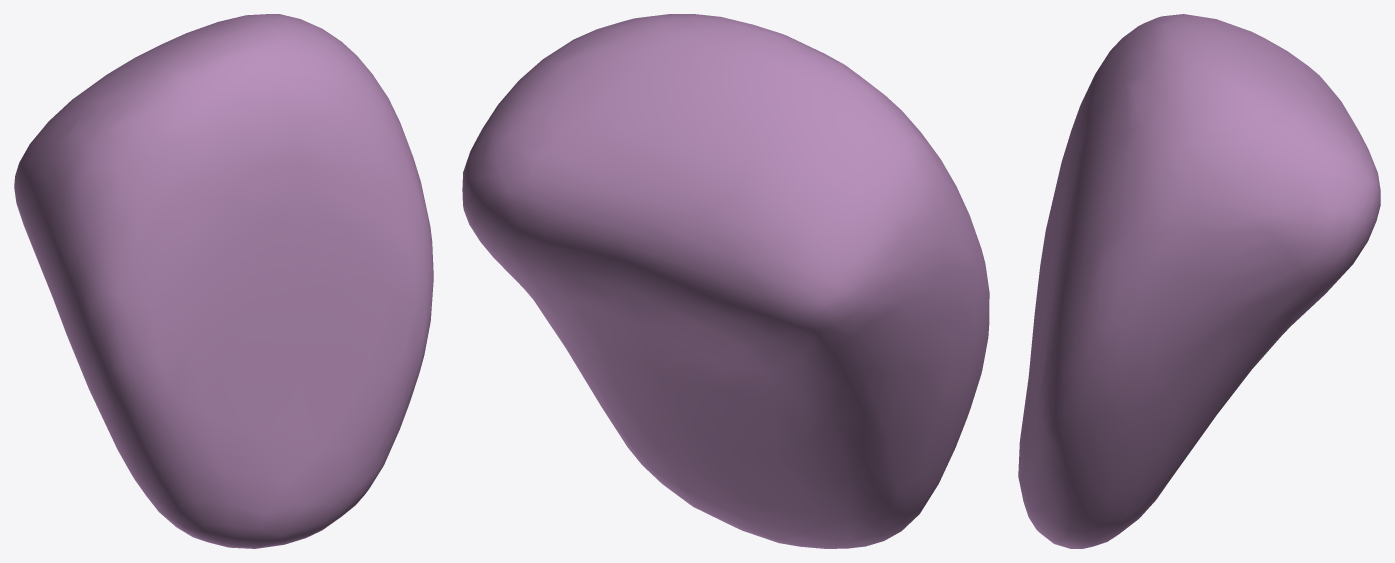
The picture shows the model from 3 angles, left to right: view 1: azimuth 30°, elevation 25°; view 2: azimuth 150°, elevation 25°; view 3: azimuth 270°, elevation 25°; orthographic projection. The views are drawn at different scales.
Parts seen in each view (by area): view 1: 蚓结节; view 2: 蚓结节; view 3: 蚓结节.
Part boxes in pixels (x1,y1,x2,y2): 蚓结节: (14,14,433,548); 蚓结节: (462,14,989,548); 蚓结节: (1018,14,1380,548).
Bounding box in the file's own units: 0.0223 × 0.028 × 0.0185.
